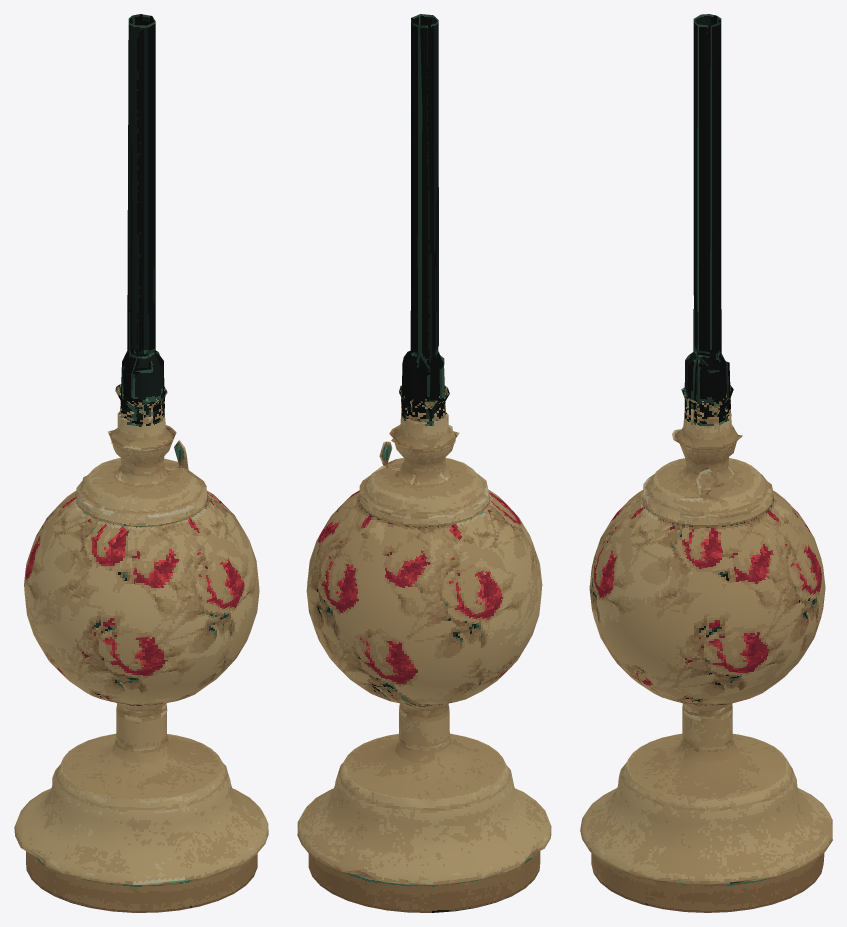
Rendered from vintage_oil_lamp.glb.
3 renders of one model, left to right at view 1: azimuth 30°, elevation 25°; view 2: azimuth 150°, elevation 25°; view 3: azimuth 270°, elevation 25°, orthographic.
Parts seen in each view (by area): view 1: mesh; view 2: mesh; view 3: mesh.
Part boxes in pixels (x1,y1,x2,y2): mesh: (14, 14, 268, 912); mesh: (297, 14, 551, 912); mesh: (580, 14, 832, 912).
Size of the model in its own units: 17.4 by 64.13 by 17.4.
1 material, 1 textured.
